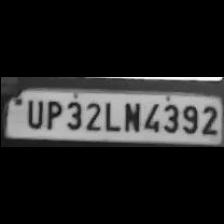2: (82, 98, 102, 132), (198, 102, 218, 136)
3: (61, 97, 80, 130), (160, 100, 178, 132)
4: (141, 98, 161, 132)
9: (179, 102, 199, 134)
L: (101, 98, 119, 132)
N: (120, 99, 140, 133)
P: (41, 98, 61, 130)
U: (20, 97, 42, 129)
